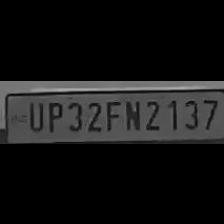1: (162, 96, 180, 130)
2: (140, 96, 162, 132), (85, 97, 103, 131)
3: (64, 97, 82, 131), (180, 95, 198, 129)
7: (200, 95, 220, 129)
F: (102, 96, 120, 132)
N: (122, 96, 140, 132)
P: (44, 97, 64, 132)
U: (23, 98, 44, 132)
